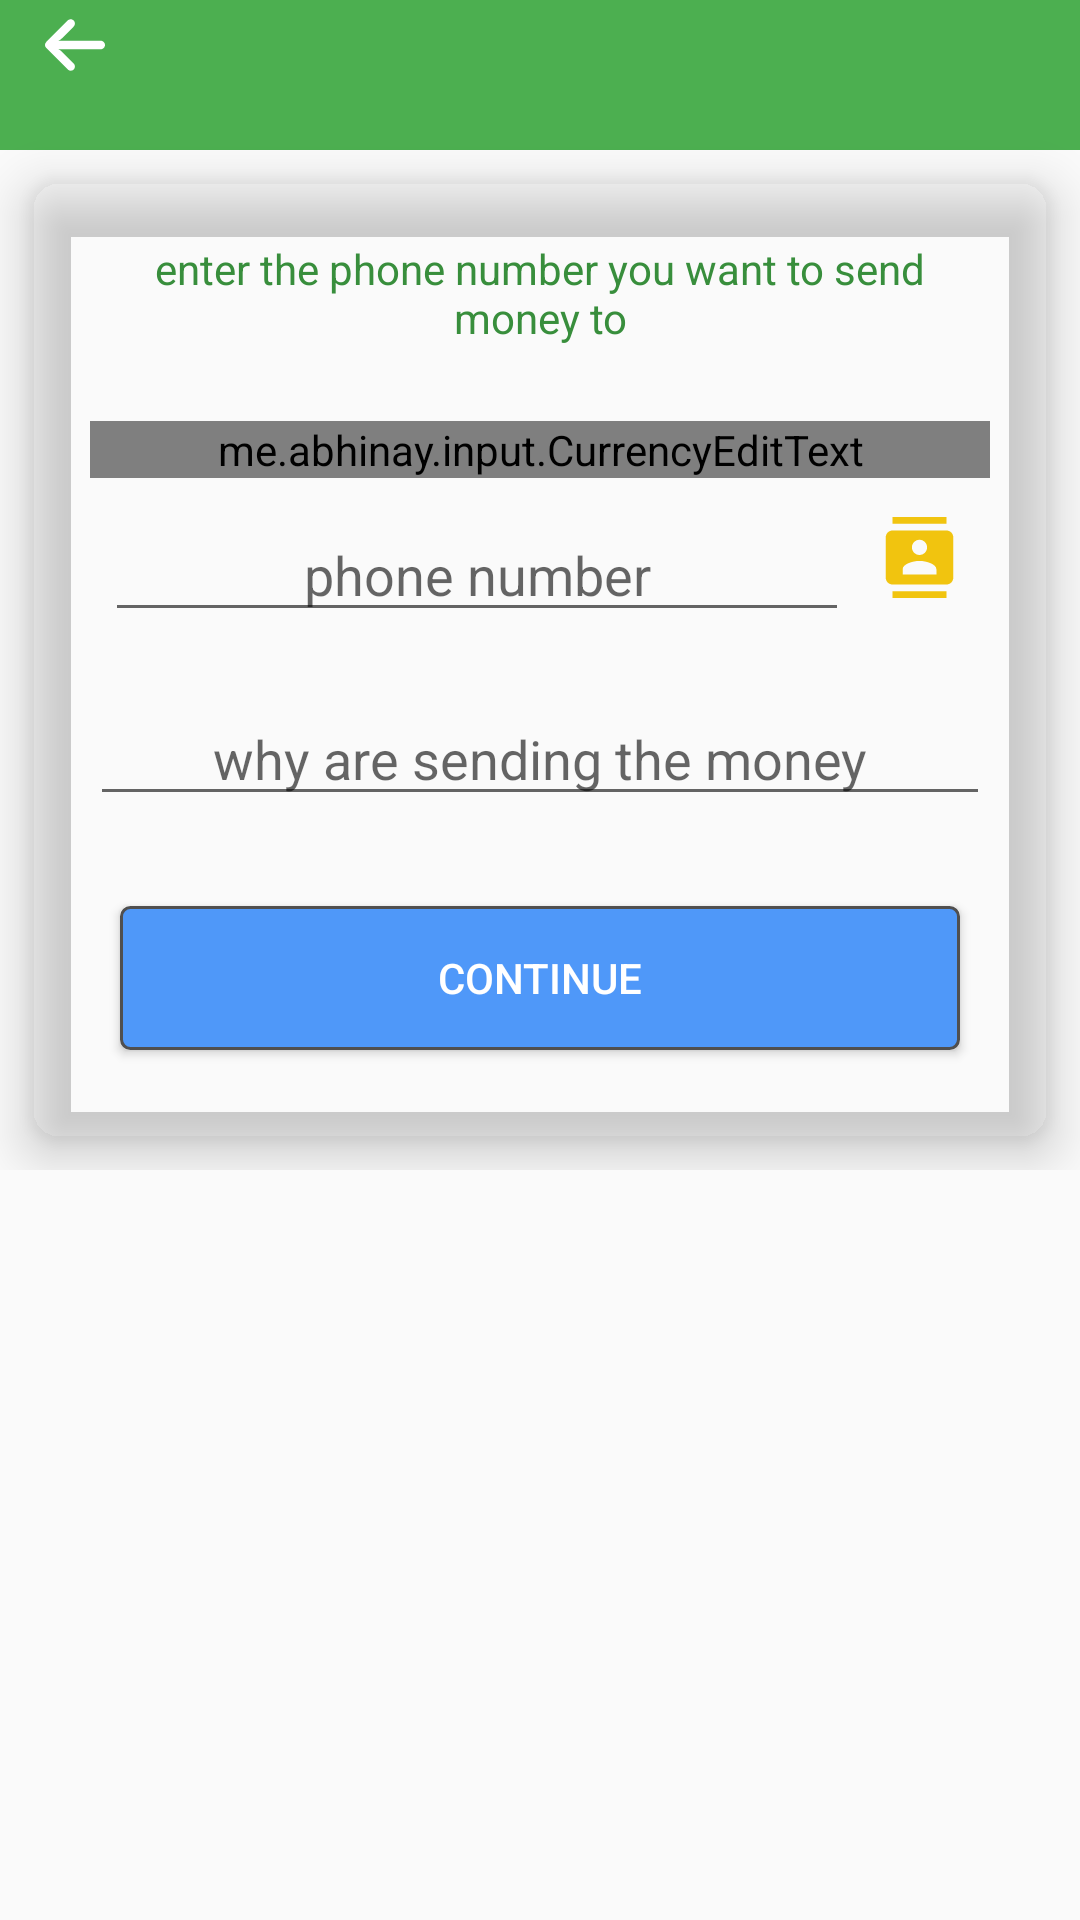

Screen size 1080px×1920px. Icon name, then its center in pixels as [x,y]:
backarrow: [75,45]
contacts: [919,557]
